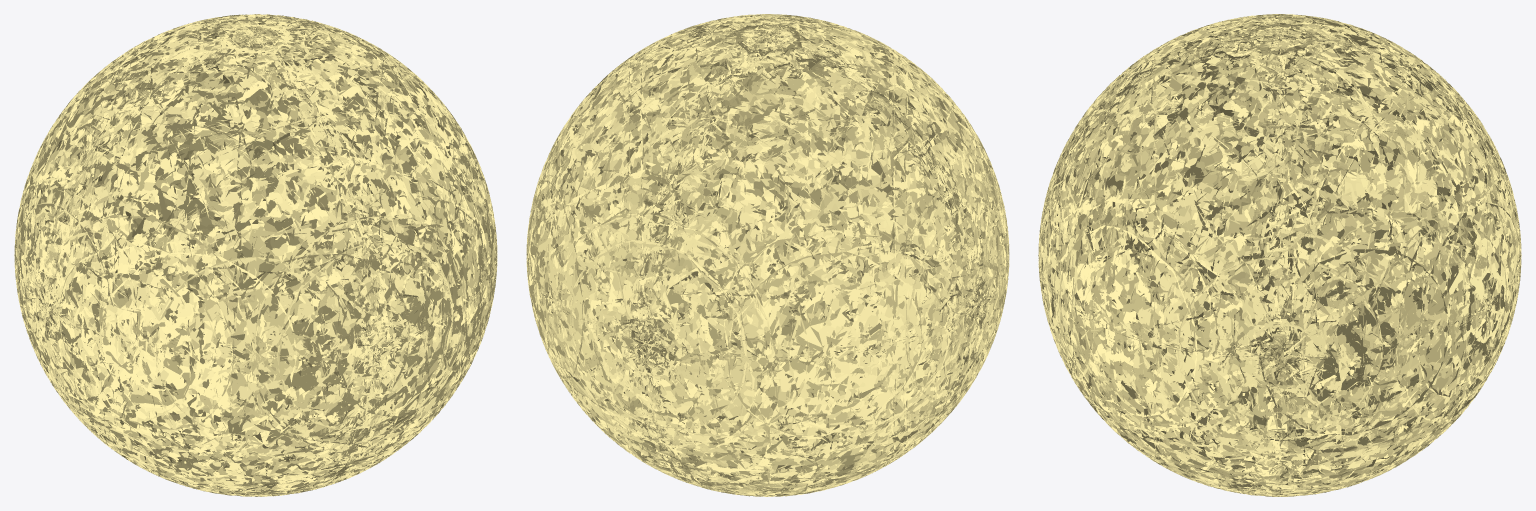
Rendered from sys-id-lighting.glb.
3 renders of one model, left to right at view 1: azimuth 30°, elevation 25°; view 2: azimuth 150°, elevation 25°; view 3: azimuth 270°, elevation 25°, orthographic.
Parts seen in each view (by area): view 1: TS-id-lighting-1688, TS-id-lighting-1685, TS-id-lighting-1686; view 2: TS-id-lighting-1685, TS-id-lighting-1688, TS-id-lighting-1686; view 3: TS-id-lighting-1688, TS-id-lighting-1685, TS-id-lighting-1686.
Boxes of the visible parts, <box> form: TS-id-lighting-1688: <box>14,14,497,496</box>; TS-id-lighting-1685: <box>14,14,497,496</box>; TS-id-lighting-1686: <box>14,14,497,496</box>; TS-id-lighting-1685: <box>526,14,1009,496</box>; TS-id-lighting-1688: <box>526,14,1009,496</box>; TS-id-lighting-1686: <box>526,14,1009,496</box>; TS-id-lighting-1688: <box>1038,14,1521,496</box>; TS-id-lighting-1685: <box>1038,14,1521,496</box>; TS-id-lighting-1686: <box>1038,14,1521,496</box>.
Size of the model in its own units: 2 by 2 by 2.
